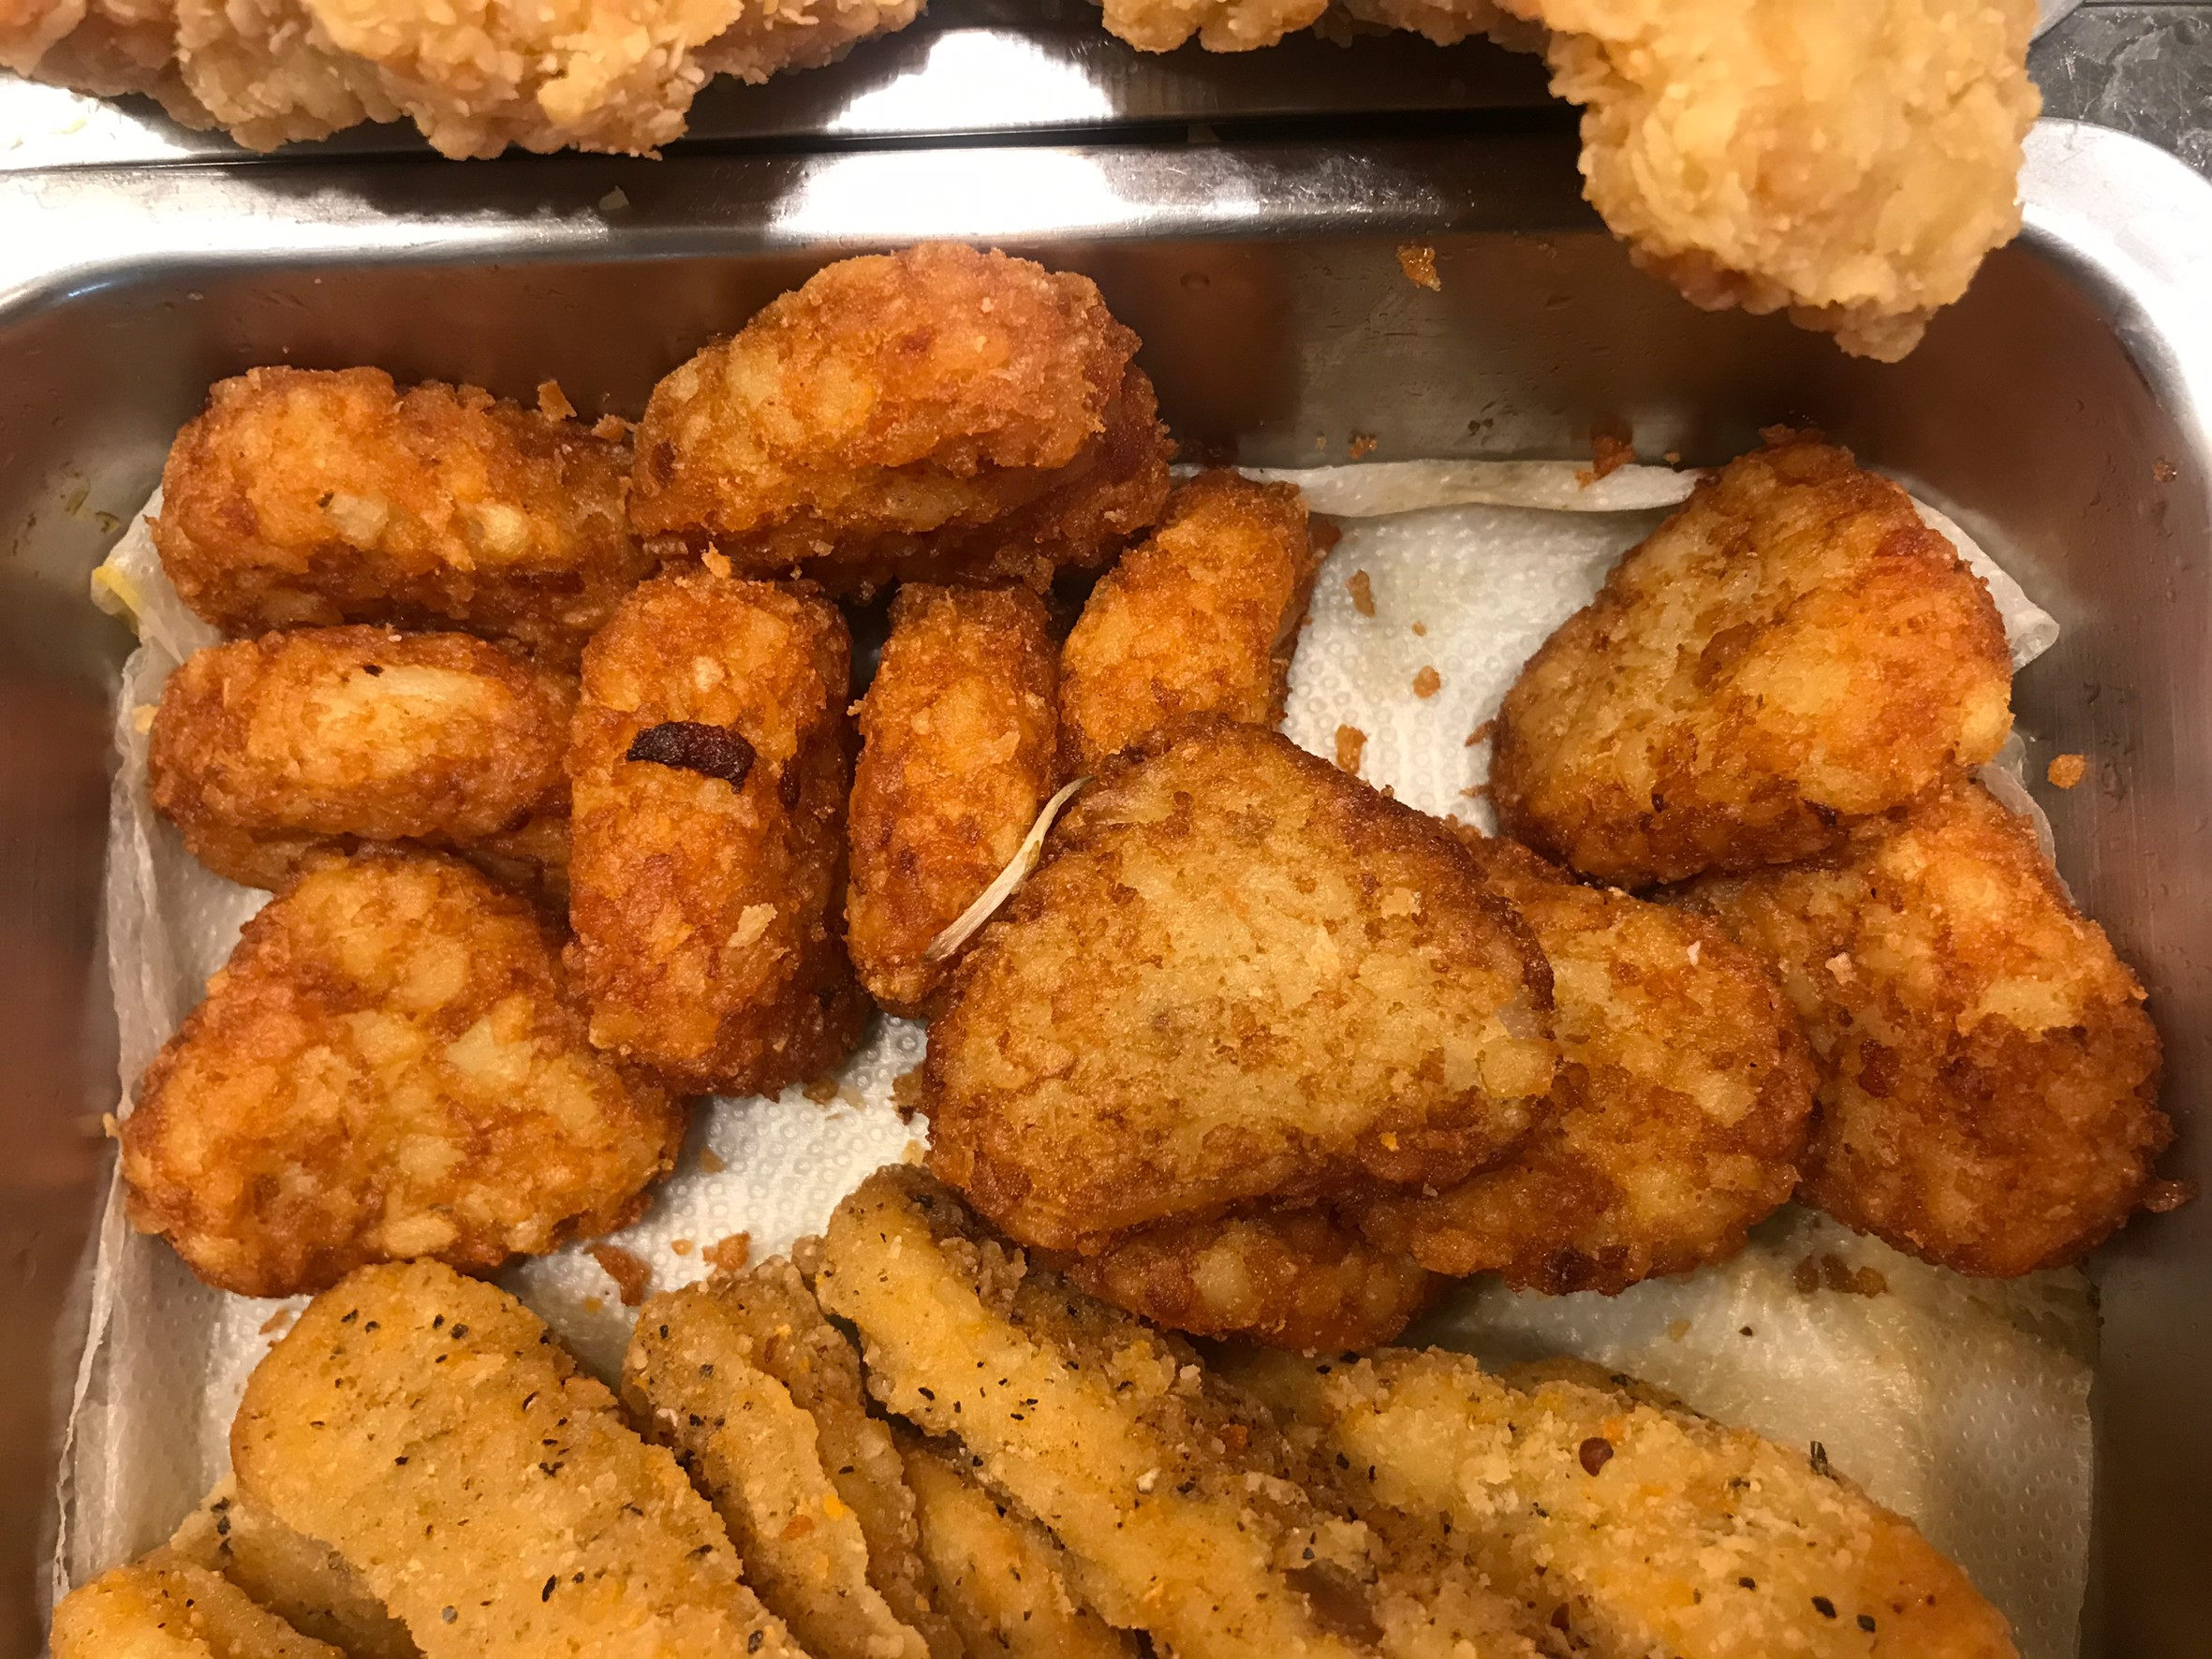triangle_hash_brown: (176, 354, 2111, 1260)
